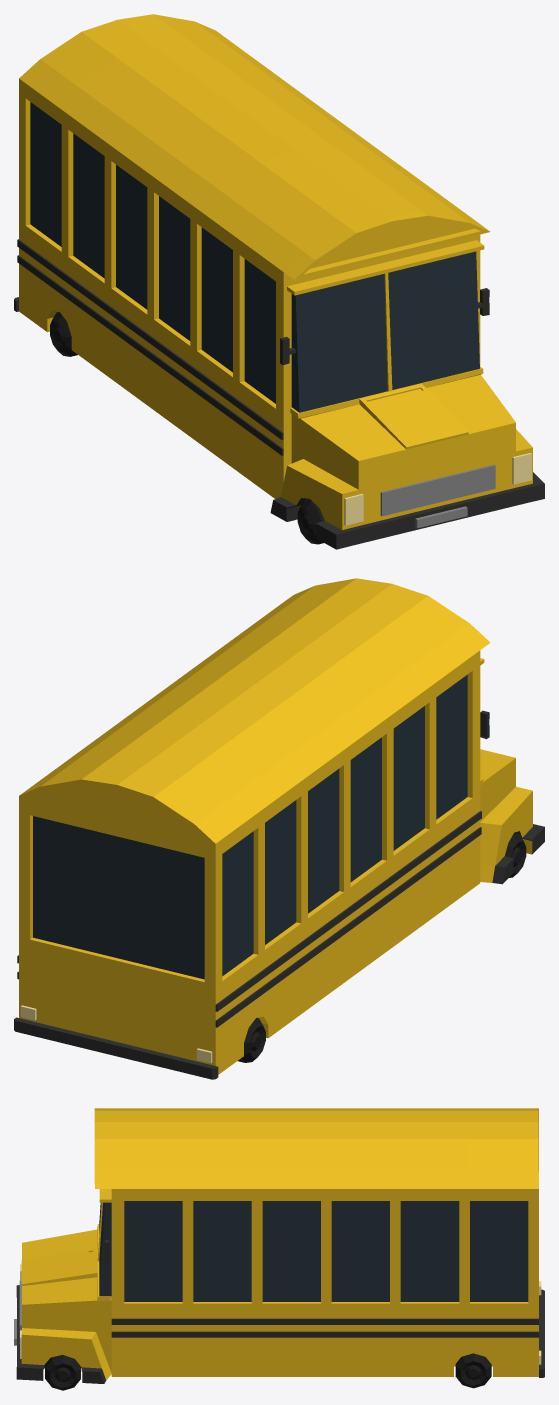
Rendered from qt.school_bus.glb.
The picture shows the model from 3 angles, top to bottom: view 1: azimuth 30°, elevation 25°; view 2: azimuth 150°, elevation 25°; view 3: azimuth 270°, elevation 25°; orthographic projection. The views are drawn at different scales.
Visible parts, largest first — view 1: SchoolBus_Cube.001, FrontWheels_Cylinder.006, BackWheels_Cylinder.007; view 2: SchoolBus_Cube.001, BackWheels_Cylinder.007, FrontWheels_Cylinder.006; view 3: SchoolBus_Cube.001, FrontWheels_Cylinder.006, BackWheels_Cylinder.007.
Boxes of the visible parts, box(x1,y1,x2,y2) form: SchoolBus_Cube.001: box(14, 14, 544, 549); FrontWheels_Cylinder.006: box(297, 498, 324, 544); BackWheels_Cylinder.007: box(50, 311, 77, 356); SchoolBus_Cube.001: box(14, 578, 544, 1079); BackWheels_Cylinder.007: box(238, 1018, 265, 1062); FrontWheels_Cylinder.006: box(505, 832, 526, 877); SchoolBus_Cube.001: box(14, 1108, 544, 1383); FrontWheels_Cylinder.006: box(45, 1355, 80, 1390); BackWheels_Cylinder.007: box(455, 1353, 491, 1388).
Size of the model in its own units: 4.48 by 5.23 by 11.
